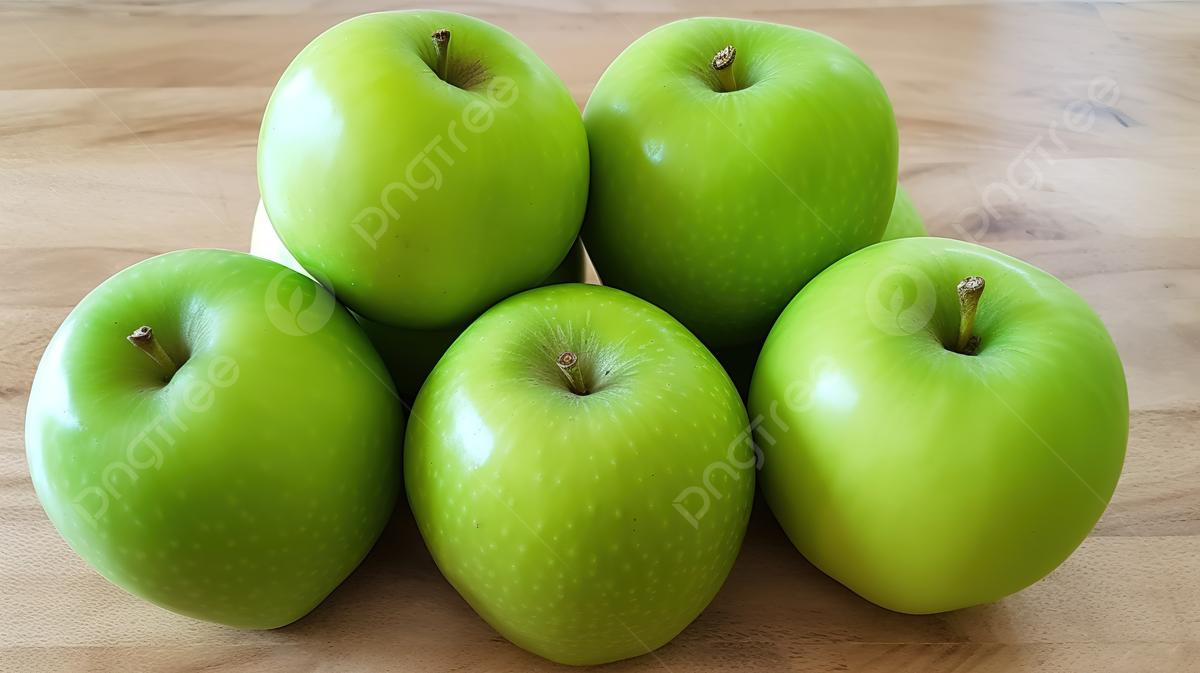apples: (420, 74, 1102, 647), (1, 18, 448, 655)
